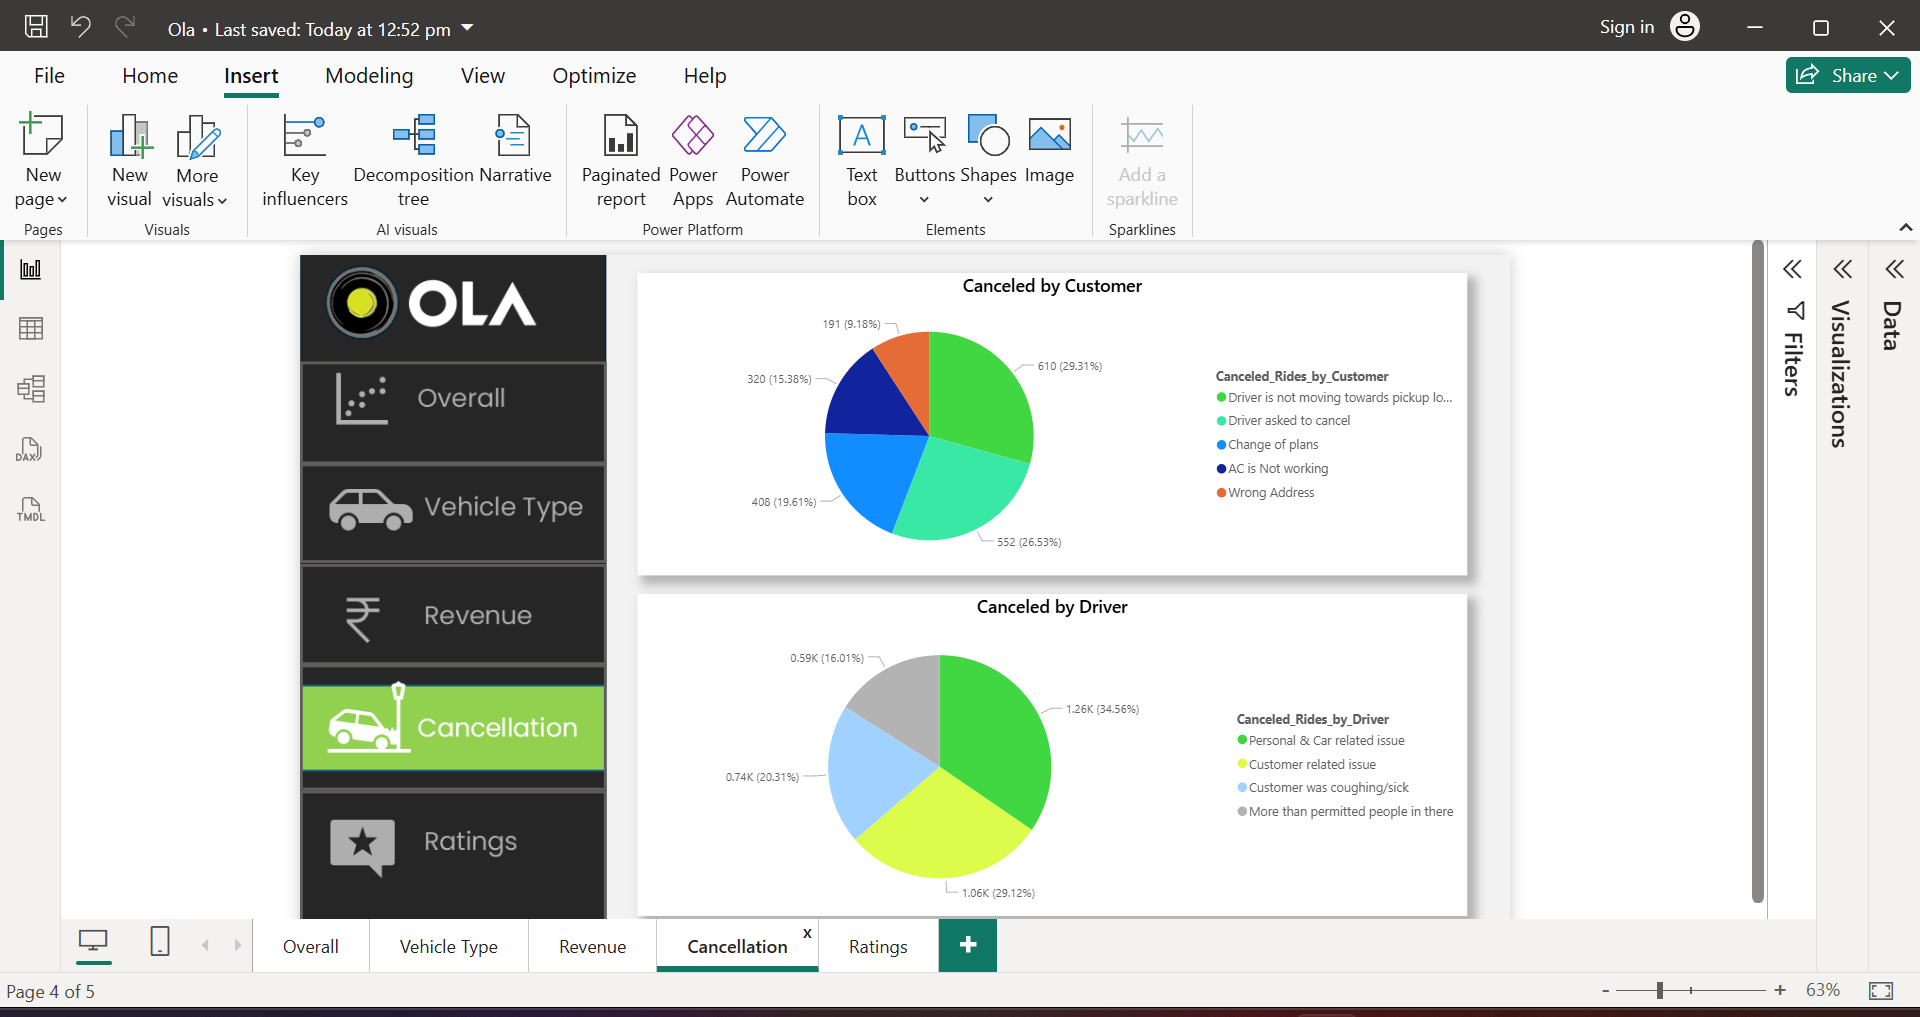

What the dashboard file says about the page in this screenshot:
{"tool":"powerbi","page":{"name":"Cancellation","canvas":[1280,720],"ordinal":3},"visuals":[{"type":"actionButton","box":[0,112.3,324.6,108.8],"z":0},{"type":"actionButton","box":[0,221.1,324.6,105.3],"z":1000},{"type":"actionButton","box":[0,326.3,324.6,107],"z":2000},{"type":"actionButton","box":[0,433.3,324.6,133.3],"z":3000},{"type":"actionButton","box":[0,566.7,324.6,152.6],"z":4000},{"type":"pieChart","title":"Canceled by Customer","fields":{"Category":["July.Canceled_Rides_by_Customer"],"Y":["CountNonNull(July.Canceled_Rides_by_Customer)"]},"box":[357.9,19.1,878,319.7],"z":5000},{"type":"pieChart","title":"Canceled by Driver","fields":{"Category":["July.Canceled_Rides_by_Driver"],"Y":["CountNonNull(July.Canceled_Rides_by_Driver)"]},"box":[357.9,359.5,878,340.4],"z":6000}]}

Visuals, with their boxes on the page's 1280x720 design canvas (x1, y1, x2, y2). These are canvas units, not pixel positions in the 1920x1017 screenshot, which may show the page scaled, cropped or inside an application window:
actionButton: locate(0, 112, 325, 221)
actionButton: locate(0, 221, 325, 326)
actionButton: locate(0, 326, 325, 433)
actionButton: locate(0, 433, 325, 567)
actionButton: locate(0, 567, 325, 719)
"Canceled by Customer" pieChart: locate(358, 19, 1236, 339)
"Canceled by Driver" pieChart: locate(358, 360, 1236, 700)
